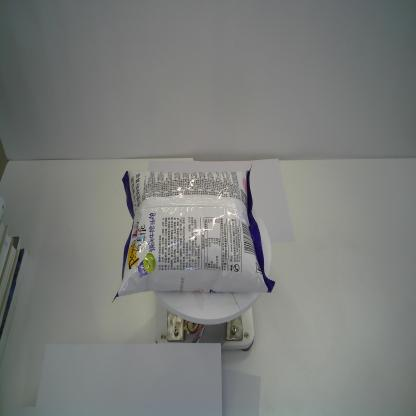Puffed Food: (109, 161, 276, 305)
